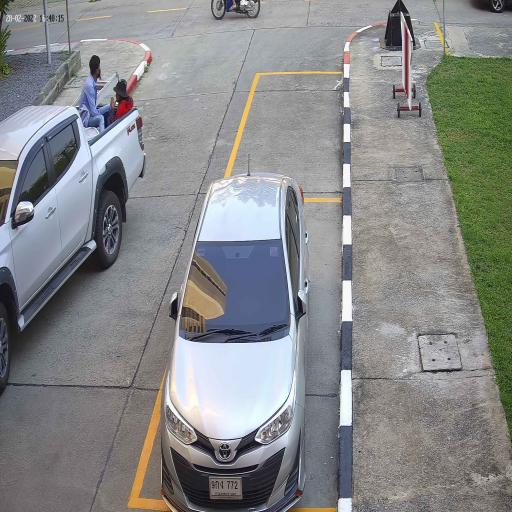car: (159, 171, 309, 512), (0, 104, 147, 393)
